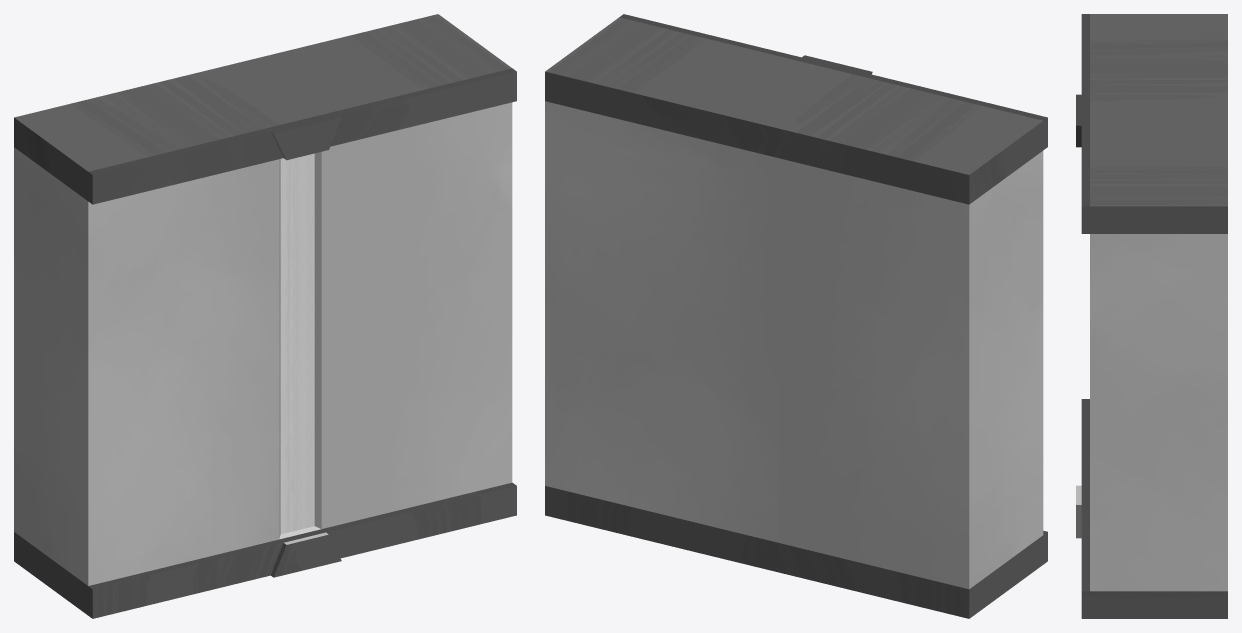
The model's file is Wall_Light.fbx.
3 renders of one model, left to right at view 1: azimuth 30°, elevation 25°; view 2: azimuth 150°, elevation 25°; view 3: azimuth 270°, elevation 25°, orthographic. The views are drawn at different scales.
Visible parts, largest first — view 1: Wall_Light; view 2: Wall_Light; view 3: Wall_Light.
Part boxes in pixels (x1,y1,x2,y2): Wall_Light: [14, 14, 516, 618]; Wall_Light: [545, 14, 1047, 618]; Wall_Light: [1076, 14, 1227, 618].
Bounding box in the file's own units: 300 × 300 × 100.
